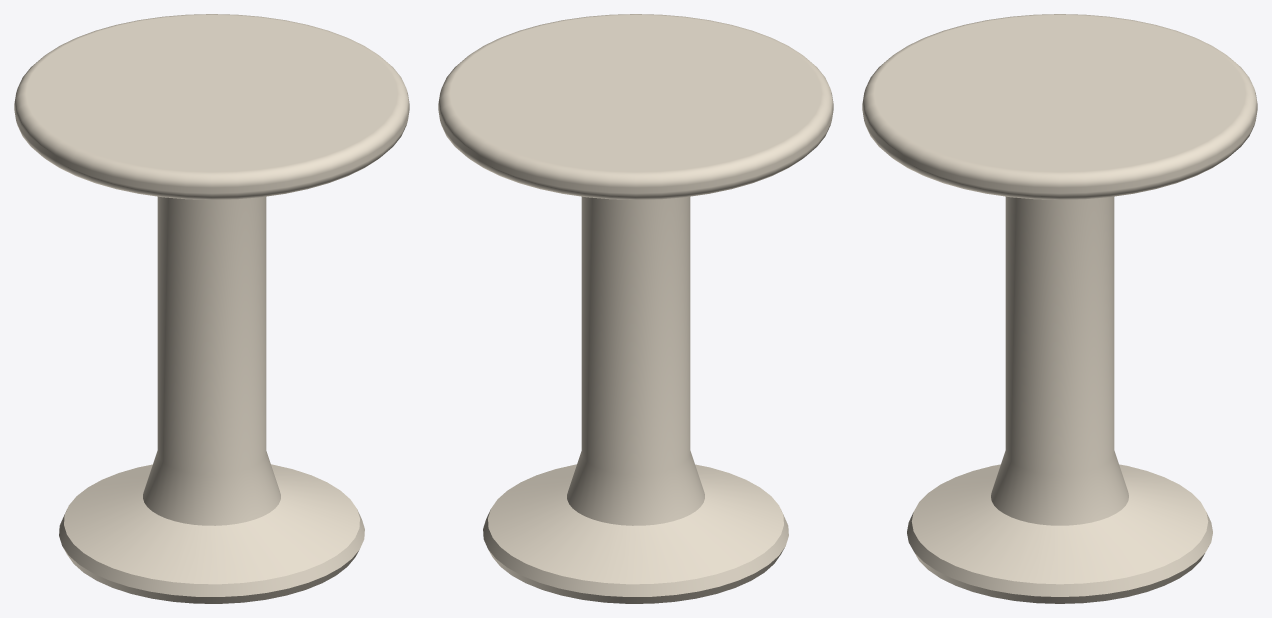
The model's file is side_table.glb.
3 renders of one model, left to right at view 1: azimuth 30°, elevation 25°; view 2: azimuth 150°, elevation 25°; view 3: azimuth 270°, elevation 25°, orthographic.
Visible parts, largest first — view 1: side_table; view 2: side_table; view 3: side_table.
Boxes of the visible parts, x1,y1,x2,y2 form: side_table: (14, 14, 409, 603); side_table: (438, 14, 833, 603); side_table: (862, 14, 1257, 603).
Bounding box in the file's own units: 0.4 × 0.5 × 0.4.
